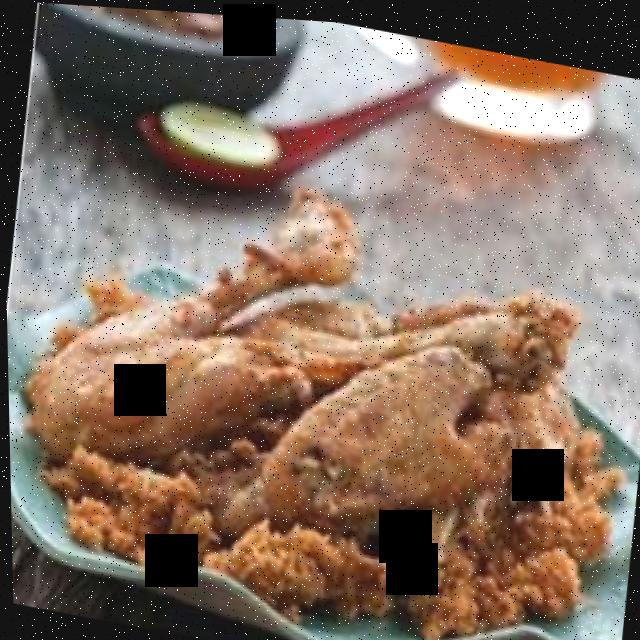Frango: (209, 233, 595, 591), (12, 134, 368, 519)
